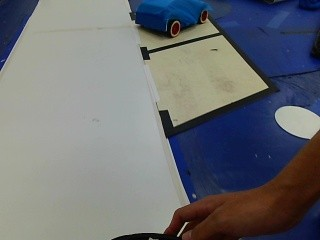car: (128, 0, 209, 38)
